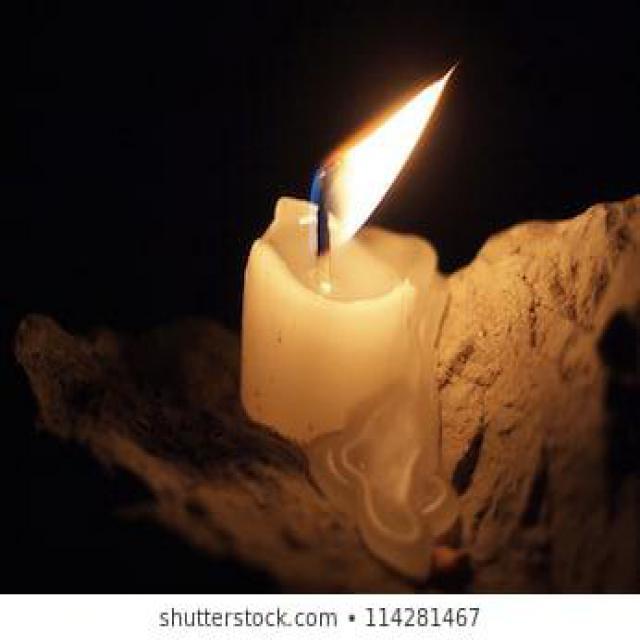Fire: (311, 66, 457, 262)
